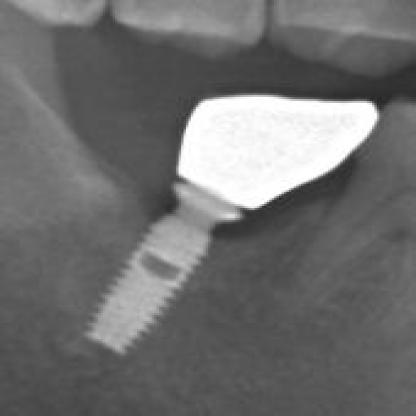Bicon: (77, 199, 228, 368)
